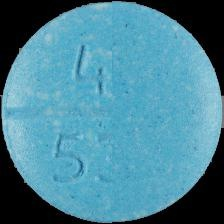11822-0532: (0, 0, 224, 224)
